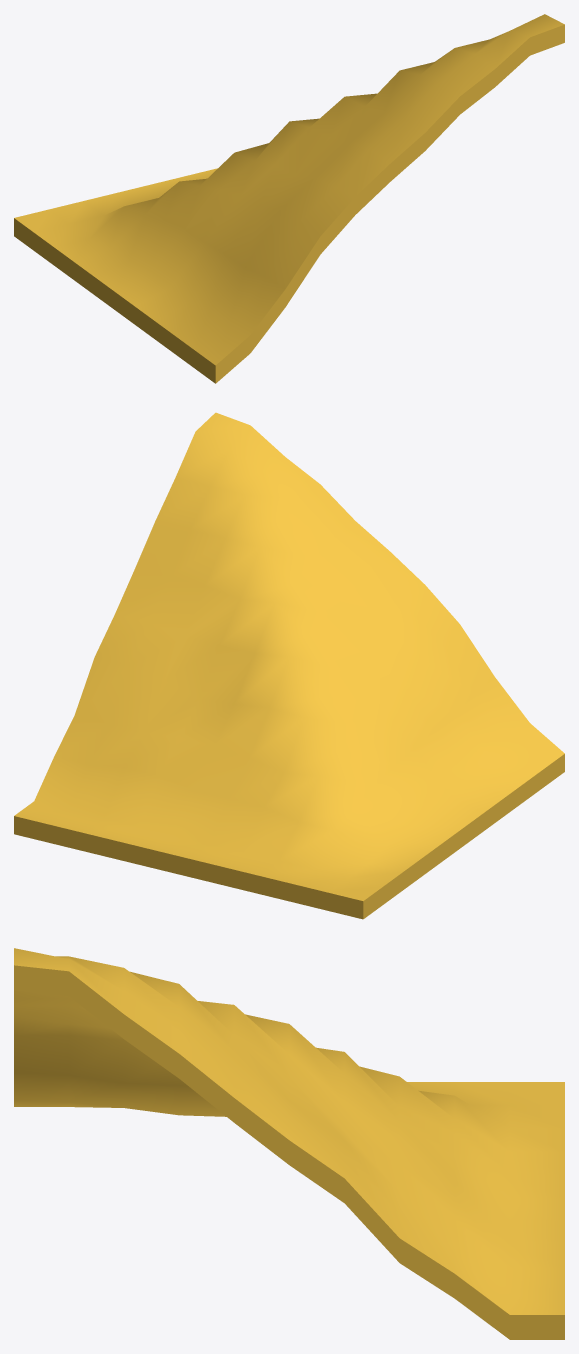
File: Steil - Mitte - Ecke a - b.fbx
3 renders of one model, top to bottom at view 1: azimuth 30°, elevation 25°; view 2: azimuth 150°, elevation 25°; view 3: azimuth 270°, elevation 25°, orthographic. The views are drawn at different scales.
Visible parts, largest first — view 1: Steil - Mitte - Ecke a - b; view 2: Steil - Mitte - Ecke a - b; view 3: Steil - Mitte - Ecke a - b.
Part boxes in pixels (left/top/right/bottom): Steil - Mitte - Ecke a - b: left=14, top=14, right=564, bottom=383; Steil - Mitte - Ecke a - b: left=14, top=412, right=564, bottom=919; Steil - Mitte - Ecke a - b: left=14, top=948, right=564, bottom=1339.
Bounding box in the file's own units: 394 × 295 × 394.
